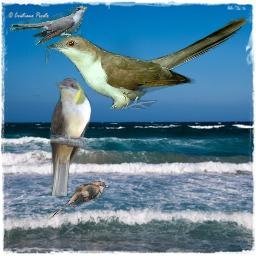Cuckoo: (45, 16, 247, 109), (48, 78, 91, 196), (10, 6, 87, 45), (49, 181, 109, 220)
